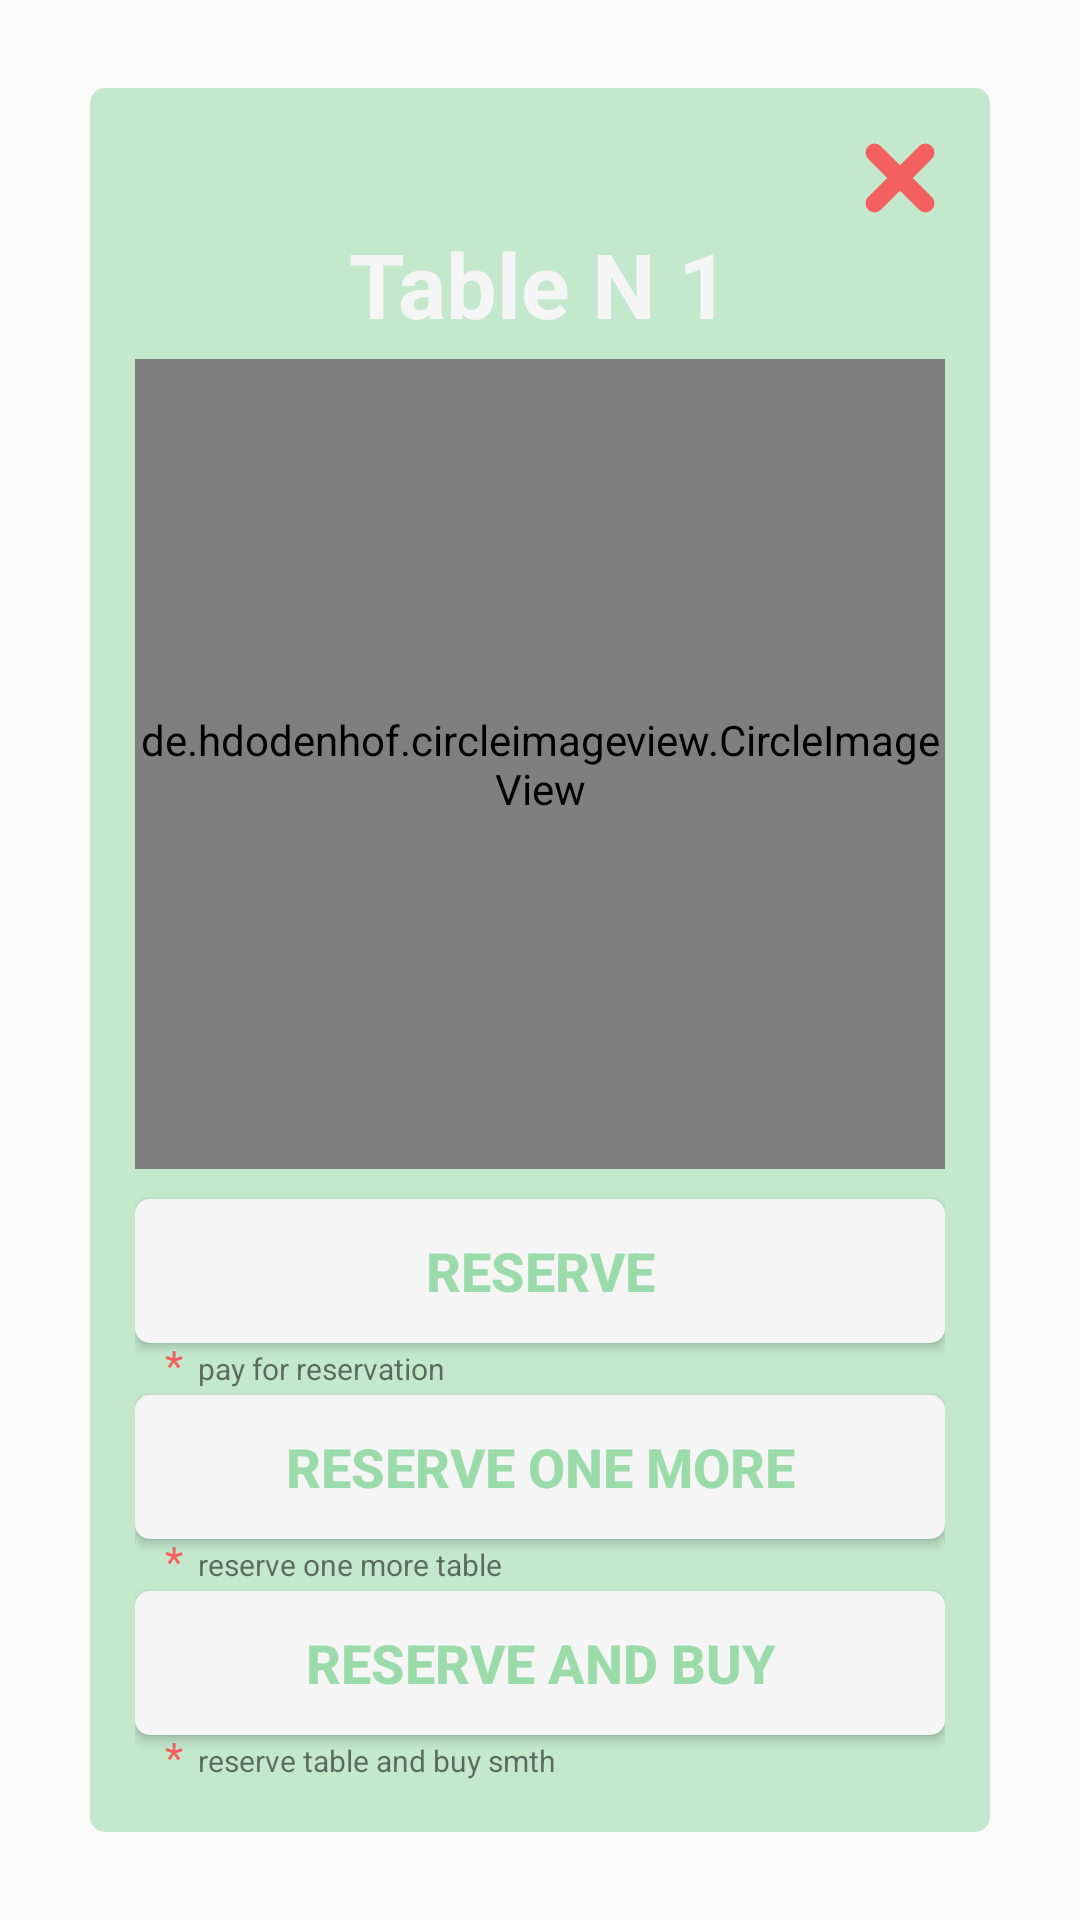

Where to tap for icons on this 1080w x 1920h app screen, as (x,y):
delete item cart: (900,178)
